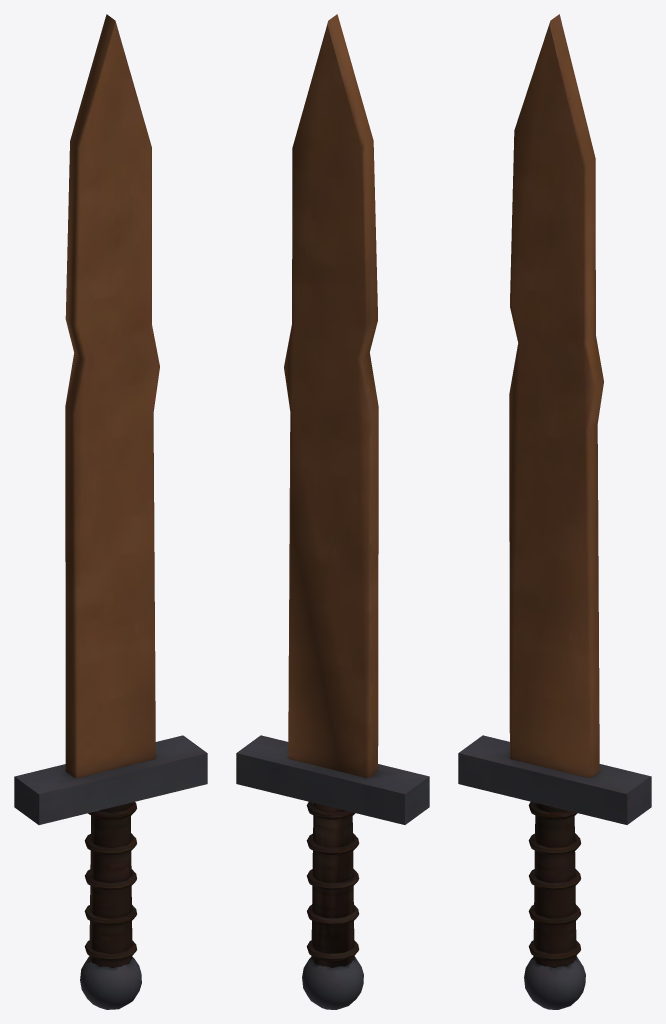
Rendered from blade_rusty_lo.glb.
3 views of the same model, side by side, from view 1: azimuth 30°, elevation 25°; view 2: azimuth 150°, elevation 25°; view 3: azimuth 330°, elevation 25° (orthographic).
Parts seen in each view (by area): view 1: Blade_rusty_lo; view 2: Blade_rusty_lo; view 3: Blade_rusty_lo.
Boxes of the visible parts, <box> form: Blade_rusty_lo: <box>14,14,207,1009</box>; Blade_rusty_lo: <box>236,14,429,1009</box>; Blade_rusty_lo: <box>458,14,651,1009</box>.
Size of the model in its own units: 0.2 by 1.12 by 0.064.
1 material, 1 textured.
